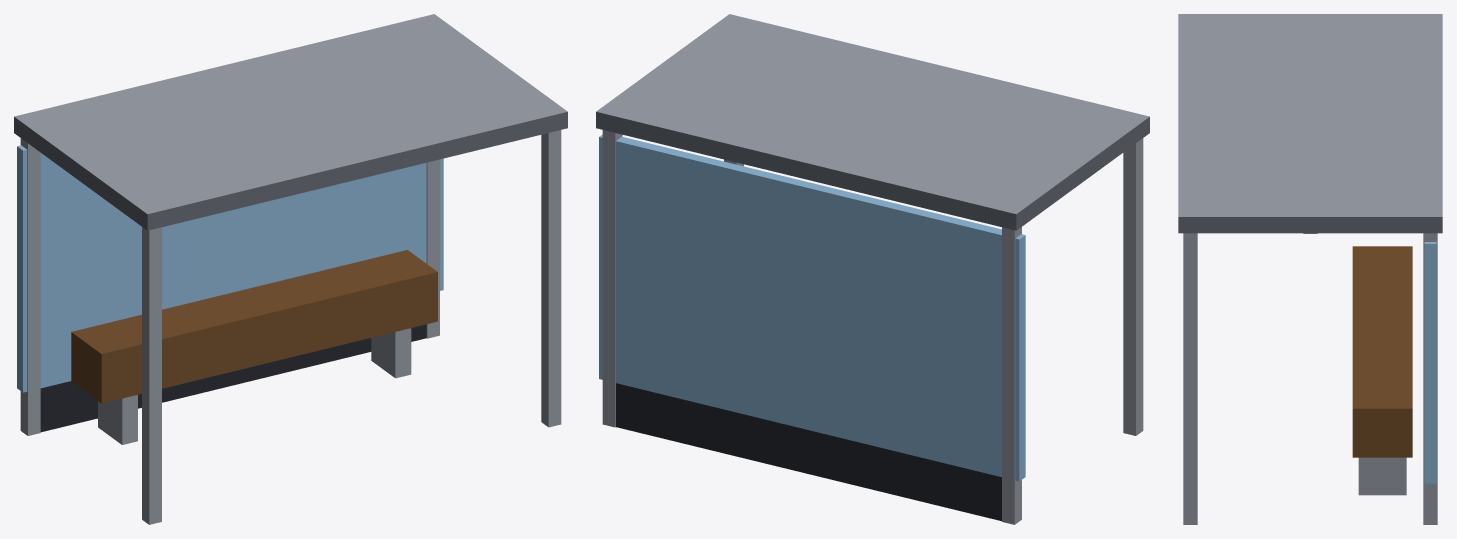
The model's file is bus_stop.obj.
The picture shows the model from 3 angles, left to right: view 1: azimuth 30°, elevation 25°; view 2: azimuth 150°, elevation 25°; view 3: azimuth 270°, elevation 25°; orthographic projection.
Visible parts, largest first — view 1: bus_stop; view 2: bus_stop; view 3: bus_stop.
Part boxes in pixels (left/top/right/bottom): bus_stop: left=14, top=14, right=567, bottom=524; bus_stop: left=596, top=14, right=1149, bottom=524; bus_stop: left=1178, top=14, right=1442, bottom=524.
Bounding box in the file's own units: 4 × 2.85 × 2.2.
